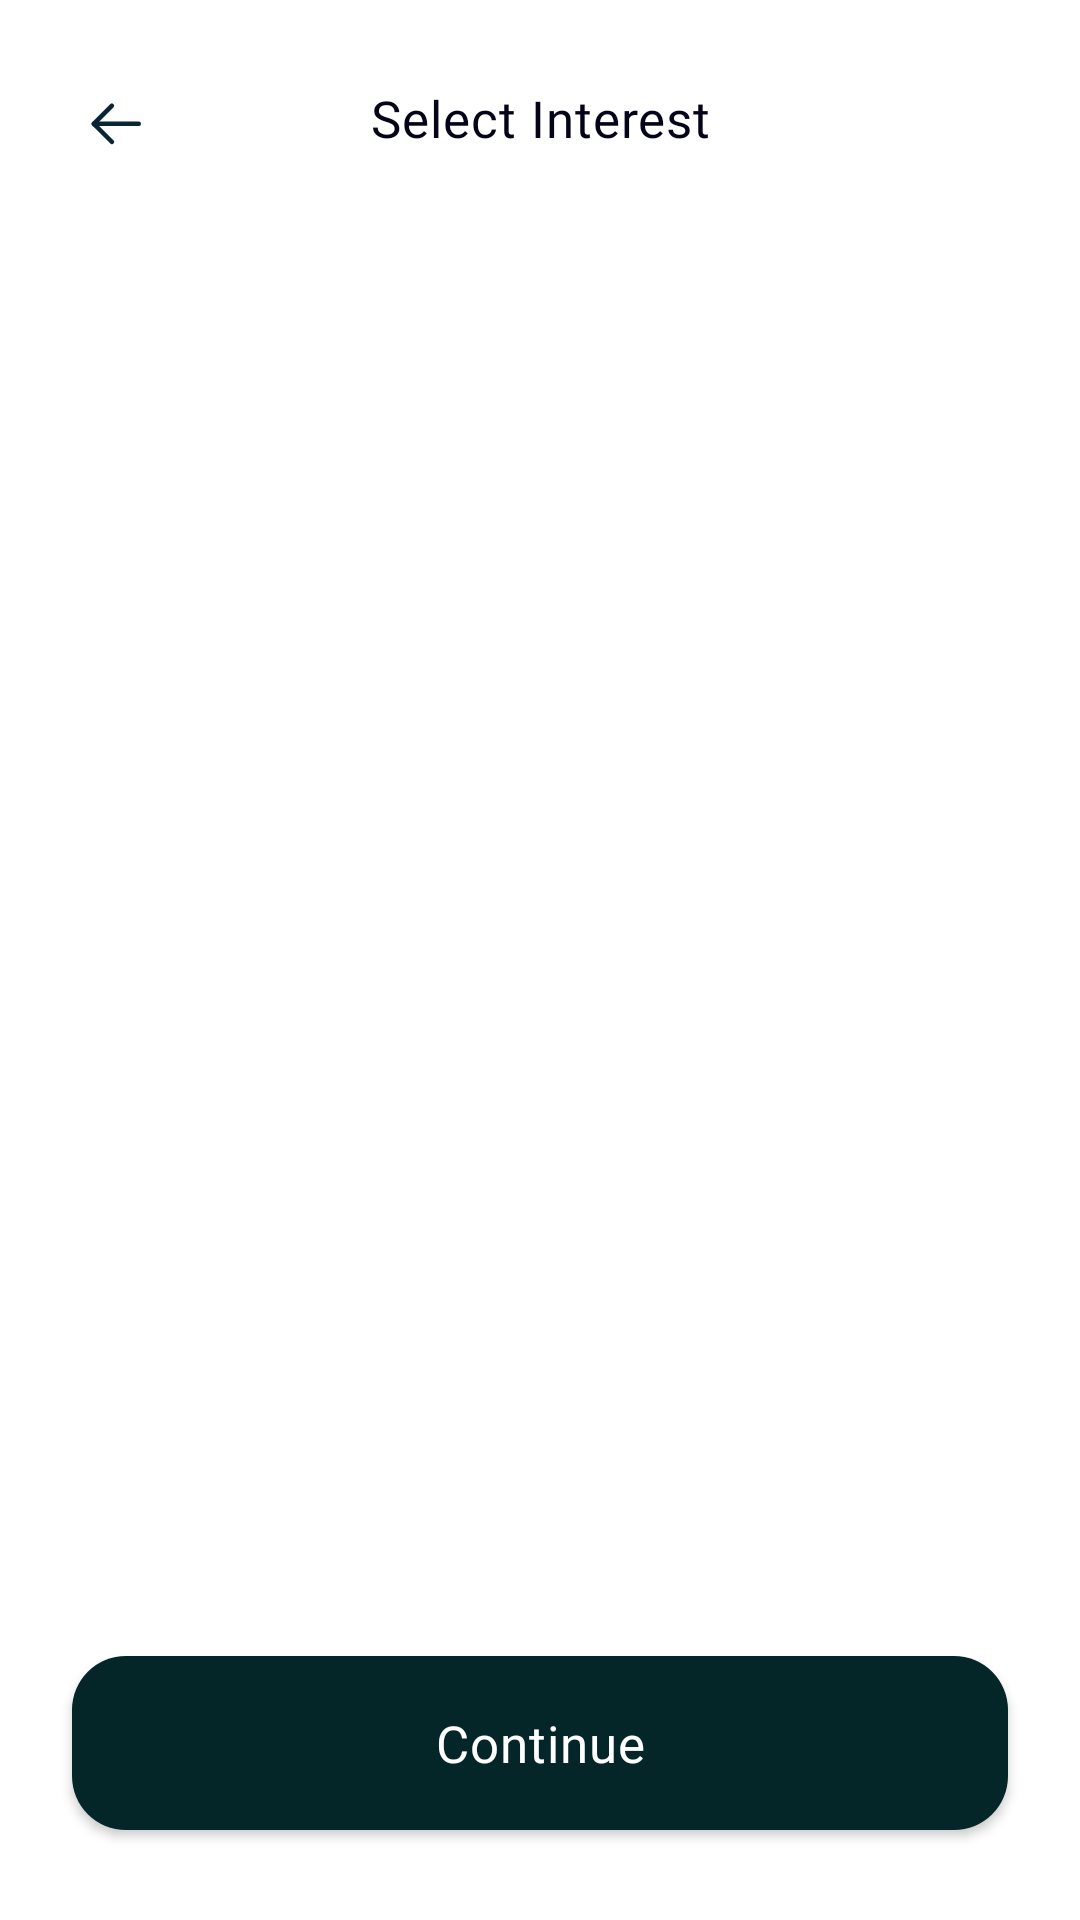

Locate icon controls on the screen. Image size 1080w x 1920h, boxes as Rect(x1, y1, x2, y2).
back: Rect(91, 103, 141, 145)
